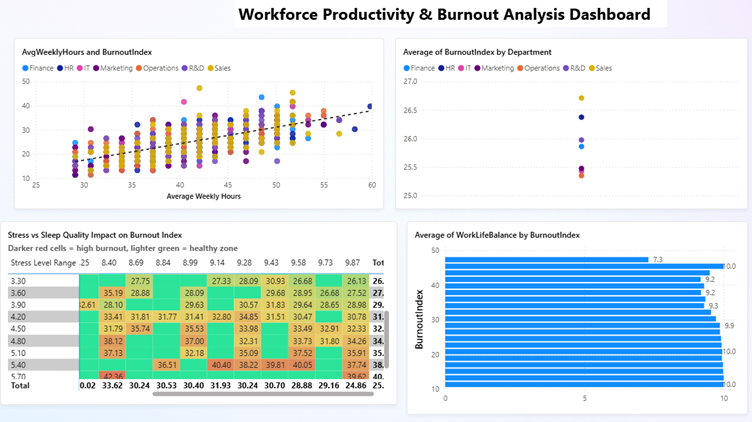

Layout of this report page (visuals, bound fields, positions):
{"tool":"powerbi","page":{"name":"Workforce Productivity & Burnout Analysis Dashboard","canvas":[1280,720],"ordinal":1},"visuals":[{"type":"scatterChart","title":" AvgWeeklyHours and BurnoutIndex","fields":{"Series":["burnout_master.Department"],"X":["burnout_master.AvgWeeklyHours (bins) 2"],"Y":["burnout_master.BurnoutIndex (bins)"]},"box":[35.7,75.5,614.8,284],"z":0},{"type":"lineChart","fields":{"Series":["burnout_master.Department"],"Y":["Avg(burnout_master.BurnoutIndex)"]},"box":[669.6,75.5,585.9,284],"z":1000},{"type":"pivotTable","title":"Stress vs Sleep Quality Impact on Burnout Index","fields":{"Values":["Avg(burnout_master.BurnoutIndex)"],"Rows":["burnout_master.StressLevel (bins)"],"Columns":["burnout_master.SleepQuality (bins)"]},"box":[12.3,380.1,660,304.6],"z":2000},{"type":"textbox","box":[403.4,11,717.7,46.7],"z":3000},{"type":"clusteredBarChart","fields":{"Category":["burnout_master.BurnoutIndex (bins)"],"Y":["Avg(burnout_master.WorkLifeBalance)"]},"box":[688.9,380.1,566.7,321.1],"z":4000}]}

Visuals, with their boxes in screenshot pixels (x1, y1, x2, y2), scaled from the page's 1280x720 canvas onto the 752x422 screenshot:
" AvgWeeklyHours and BurnoutIndex" scatterChart: [left=21, top=44, right=382, bottom=211]
lineChart - burnout_master.Department x Avg(burnout_master.BurnoutIndex): [left=393, top=44, right=738, bottom=211]
"Stress vs Sleep Quality Impact on Burnout Index" pivotTable: [left=7, top=223, right=395, bottom=401]
textbox: [left=237, top=6, right=659, bottom=34]
clusteredBarChart - burnout_master.BurnoutIndex (bins) x Avg(burnout_master.WorkLifeBalance): [left=405, top=223, right=738, bottom=411]
